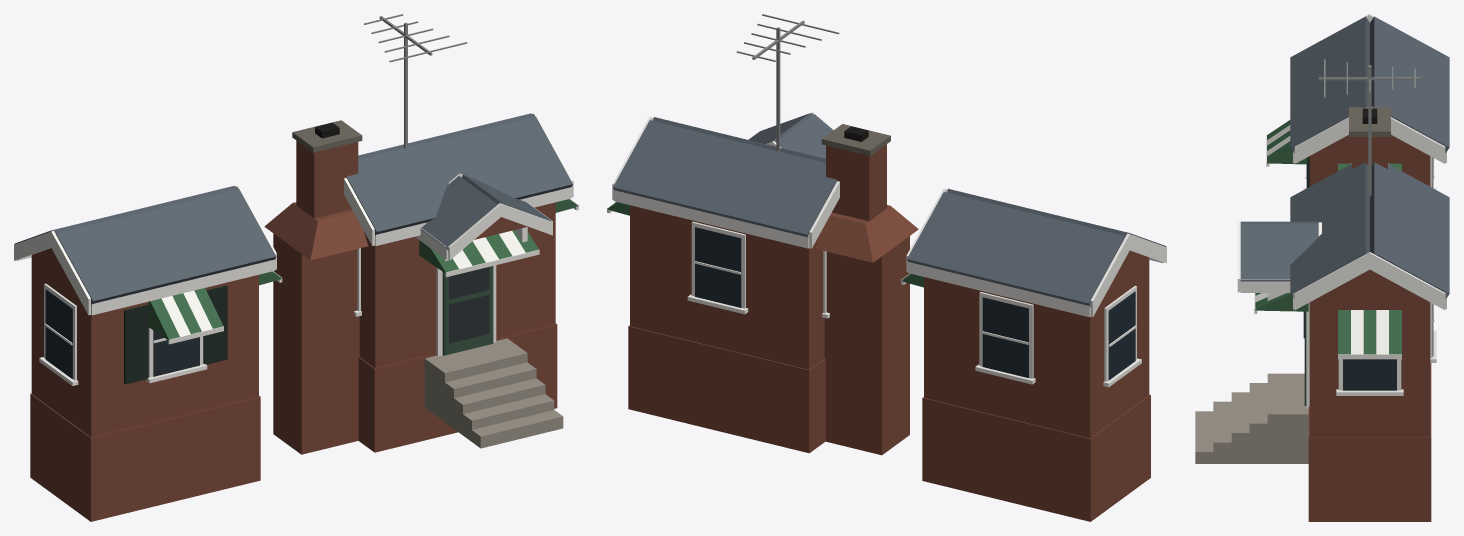
The model's file is small-brick-house-0002.glb.
3 views of the same model, side by side, from view 1: azimuth 30°, elevation 25°; view 2: azimuth 150°, elevation 25°; view 3: azimuth 270°, elevation 25° (orthographic).
Visible parts, largest first — view 1: kit-small-brick-house-0002; view 2: kit-small-brick-house-0002; view 3: kit-small-brick-house-0002.
Boxes of the visible parts, box(x1,y1,x2,y2) form: kit-small-brick-house-0002: box(14, 14, 578, 521); kit-small-brick-house-0002: box(607, 14, 1166, 521); kit-small-brick-house-0002: box(1195, 14, 1449, 521).
Size of the model in its own units: 9.92 by 7.26 by 4.22.
